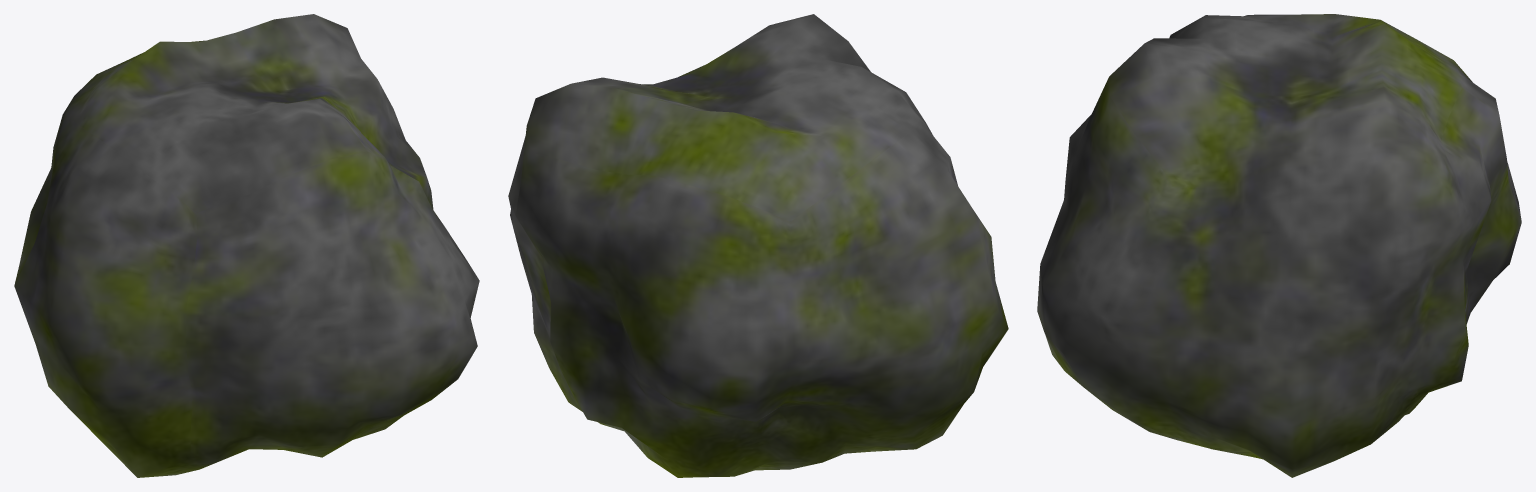
File: A_BoulderMossyLarge_6.glb
3 renders of one model, left to right at view 1: azimuth 30°, elevation 25°; view 2: azimuth 150°, elevation 25°; view 3: azimuth 270°, elevation 25°, orthographic. The views are drawn at different scales.
Visible parts, largest first — view 1: BoulderMossyLarge_6; view 2: BoulderMossyLarge_6; view 3: BoulderMossyLarge_6.
Boxes of the visible parts, x1=… form: BoulderMossyLarge_6: x1=14, y1=14, x2=479, y2=477; BoulderMossyLarge_6: x1=508, y1=14, x2=1008, y2=477; BoulderMossyLarge_6: x1=1037, y1=14, x2=1521, y2=477.
Size of the model in its own units: 3.4 by 2.89 by 3.36.
Materials: 1 (1 with a texture image).
